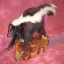skunk: (7, 4, 57, 49)
